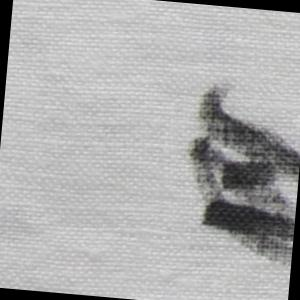Stain: (175, 71, 300, 274)
